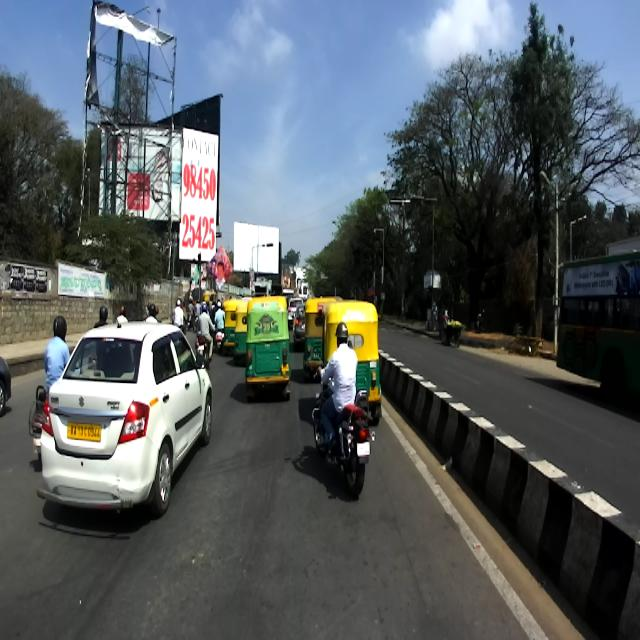auto ahead at: (242, 296, 294, 404)
car ahead at: (41, 317, 220, 521)
motorcycle ahead at: (314, 403, 376, 502)
